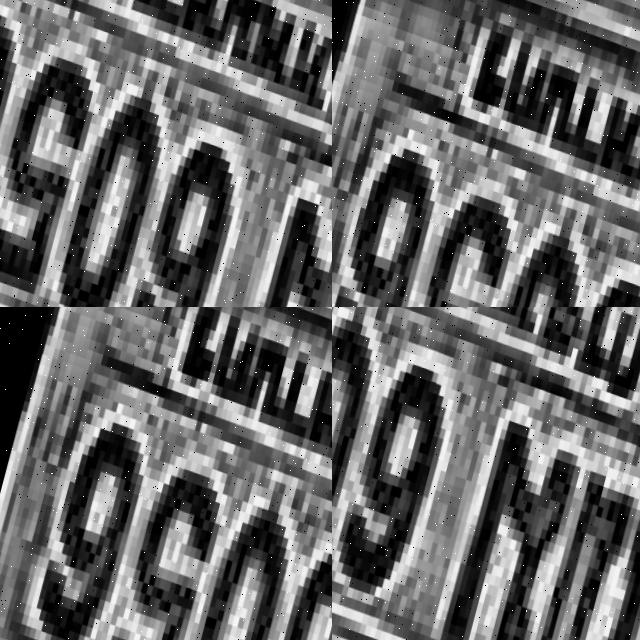license-plate: (332, 307, 640, 640), (0, 0, 332, 307), (332, 0, 640, 307), (127, 307, 332, 640)
